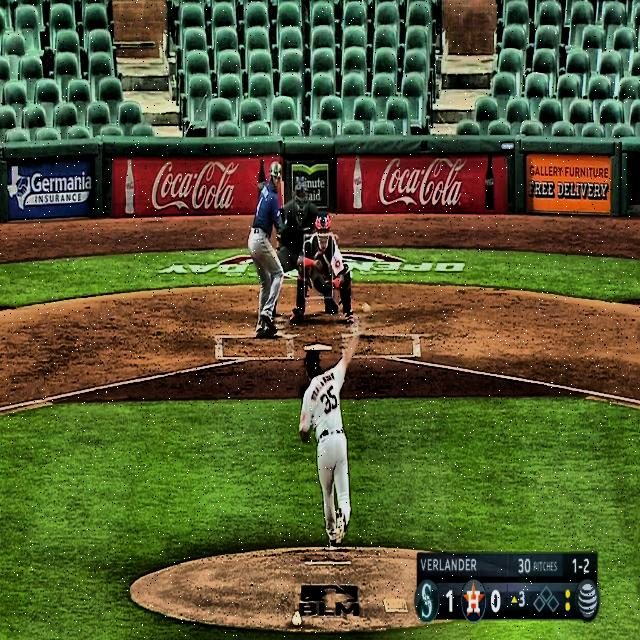baseball: (362, 302, 371, 314)
